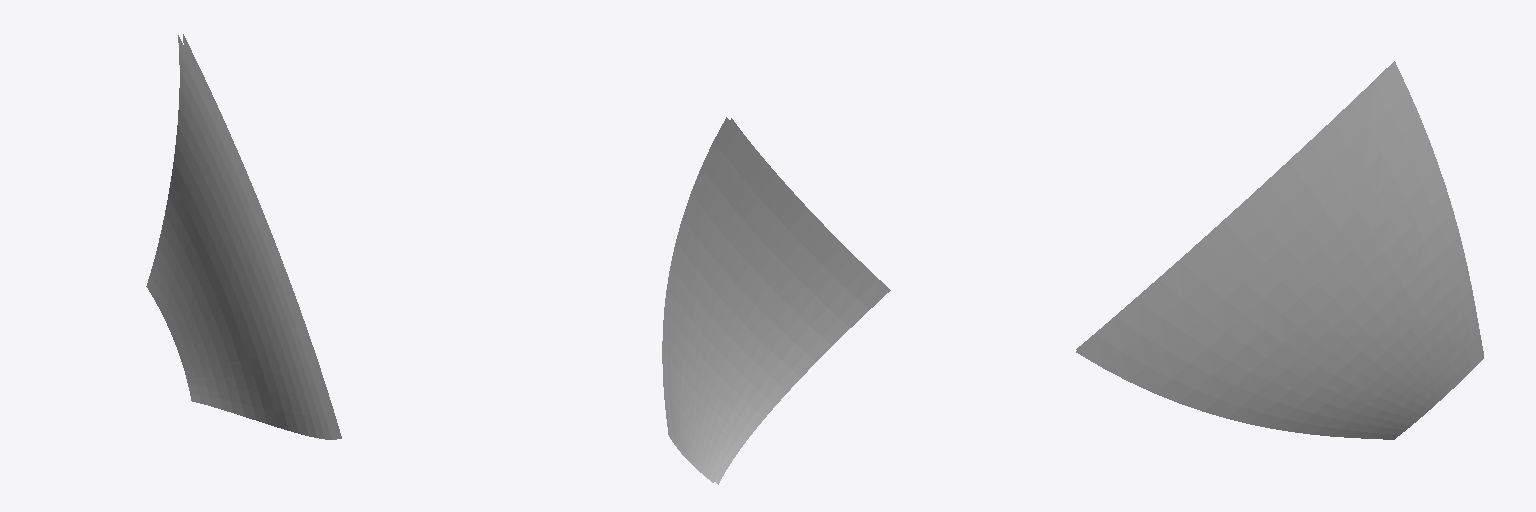
The model's file is Sail.obj.
3 views of the same model, side by side, from view 1: azimuth 30°, elevation 25°; view 2: azimuth 150°, elevation 25°; view 3: azimuth 270°, elevation 25° (orthographic).
Parts seen in each view (by area): view 1: SurfPatch_SurfPatch.000, SurfPatch_SurfPatch.001; view 2: SurfPatch_SurfPatch.000, SurfPatch_SurfPatch.001; view 3: SurfPatch_SurfPatch.001, SurfPatch_SurfPatch.000.
Part boxes in pixels (left/top/right/bottom): SurfPatch_SurfPatch.000: left=146, top=35, right=336, bottom=439; SurfPatch_SurfPatch.001: left=183, top=34, right=341, bottom=438; SurfPatch_SurfPatch.000: left=667, top=118, right=890, bottom=484; SurfPatch_SurfPatch.001: left=662, top=117, right=729, bottom=482; SurfPatch_SurfPatch.001: left=1076, top=63, right=1483, bottom=439; SurfPatch_SurfPatch.000: left=1076, top=61, right=1483, bottom=353.
Bounding box in the file's own units: 0.9583 × 8.14 × 8.14.